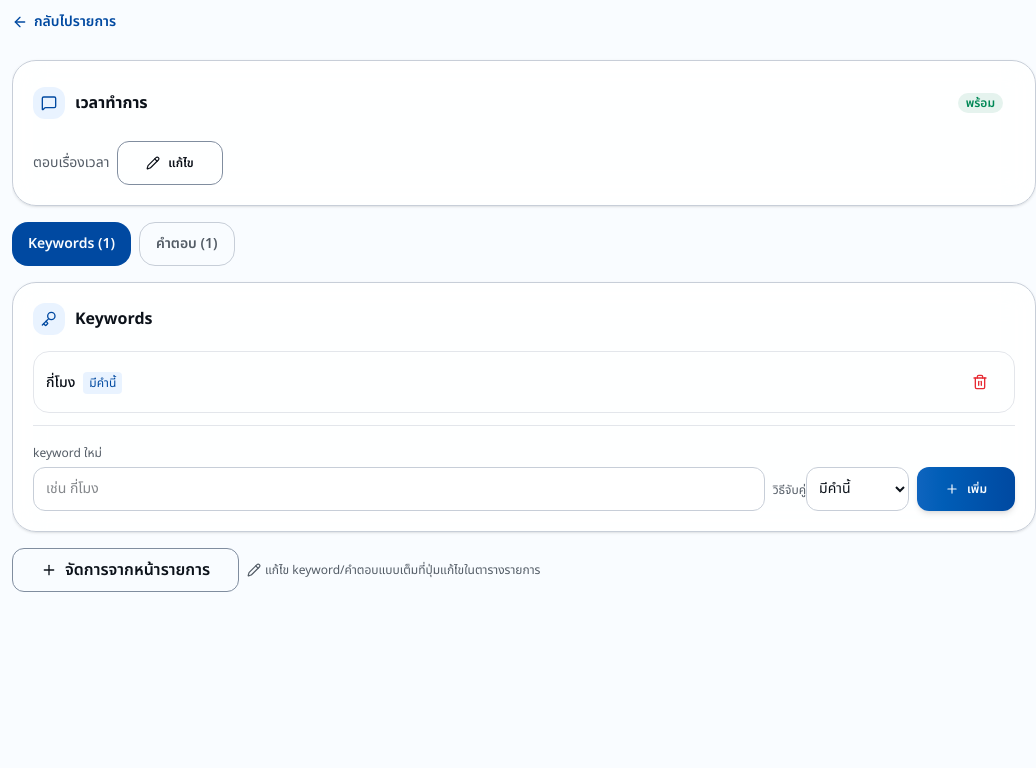
Test: IntentDetailClient › ห้ามลบ keyword ตัวสุดท้าย — server min(1)
This screenshot has width=1036, height=768.
Expected: the text "กี่โมง" is shown, [46,372,75,393]
Step 1. Click the button named "ลบ keyword กี่โมง" → (980, 382), box [958,360,1002,404]
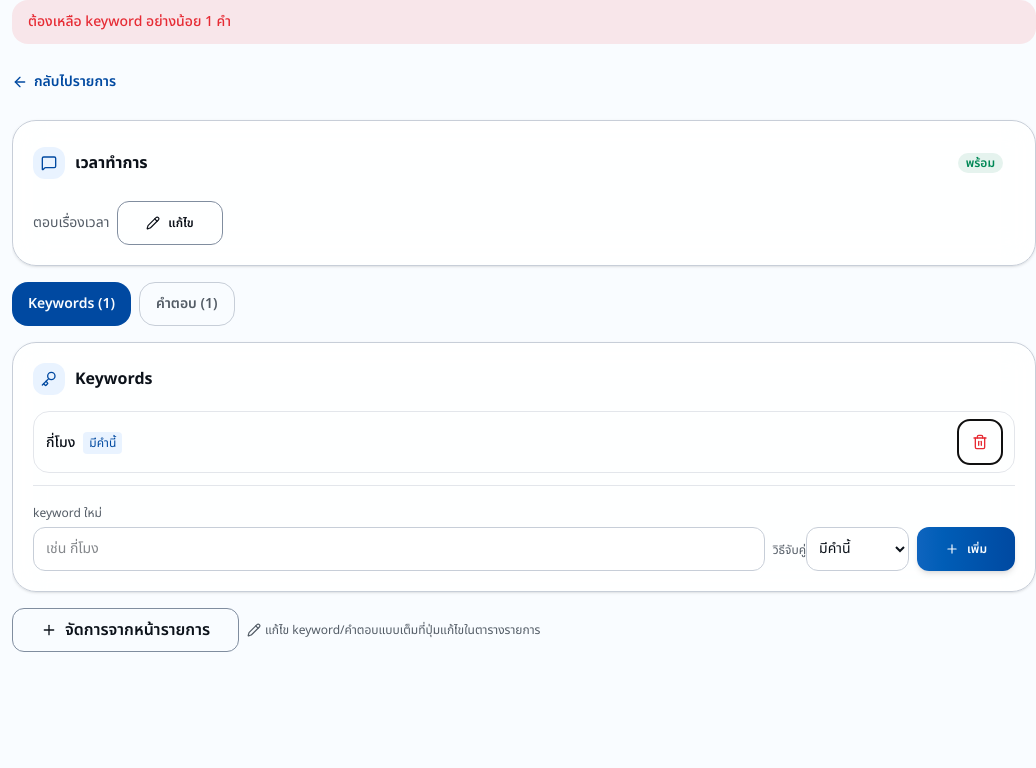
Now the message reads "ต้องเหลือ keyword อย่างน้อย 1 คำ", box [28,11,231,32]
